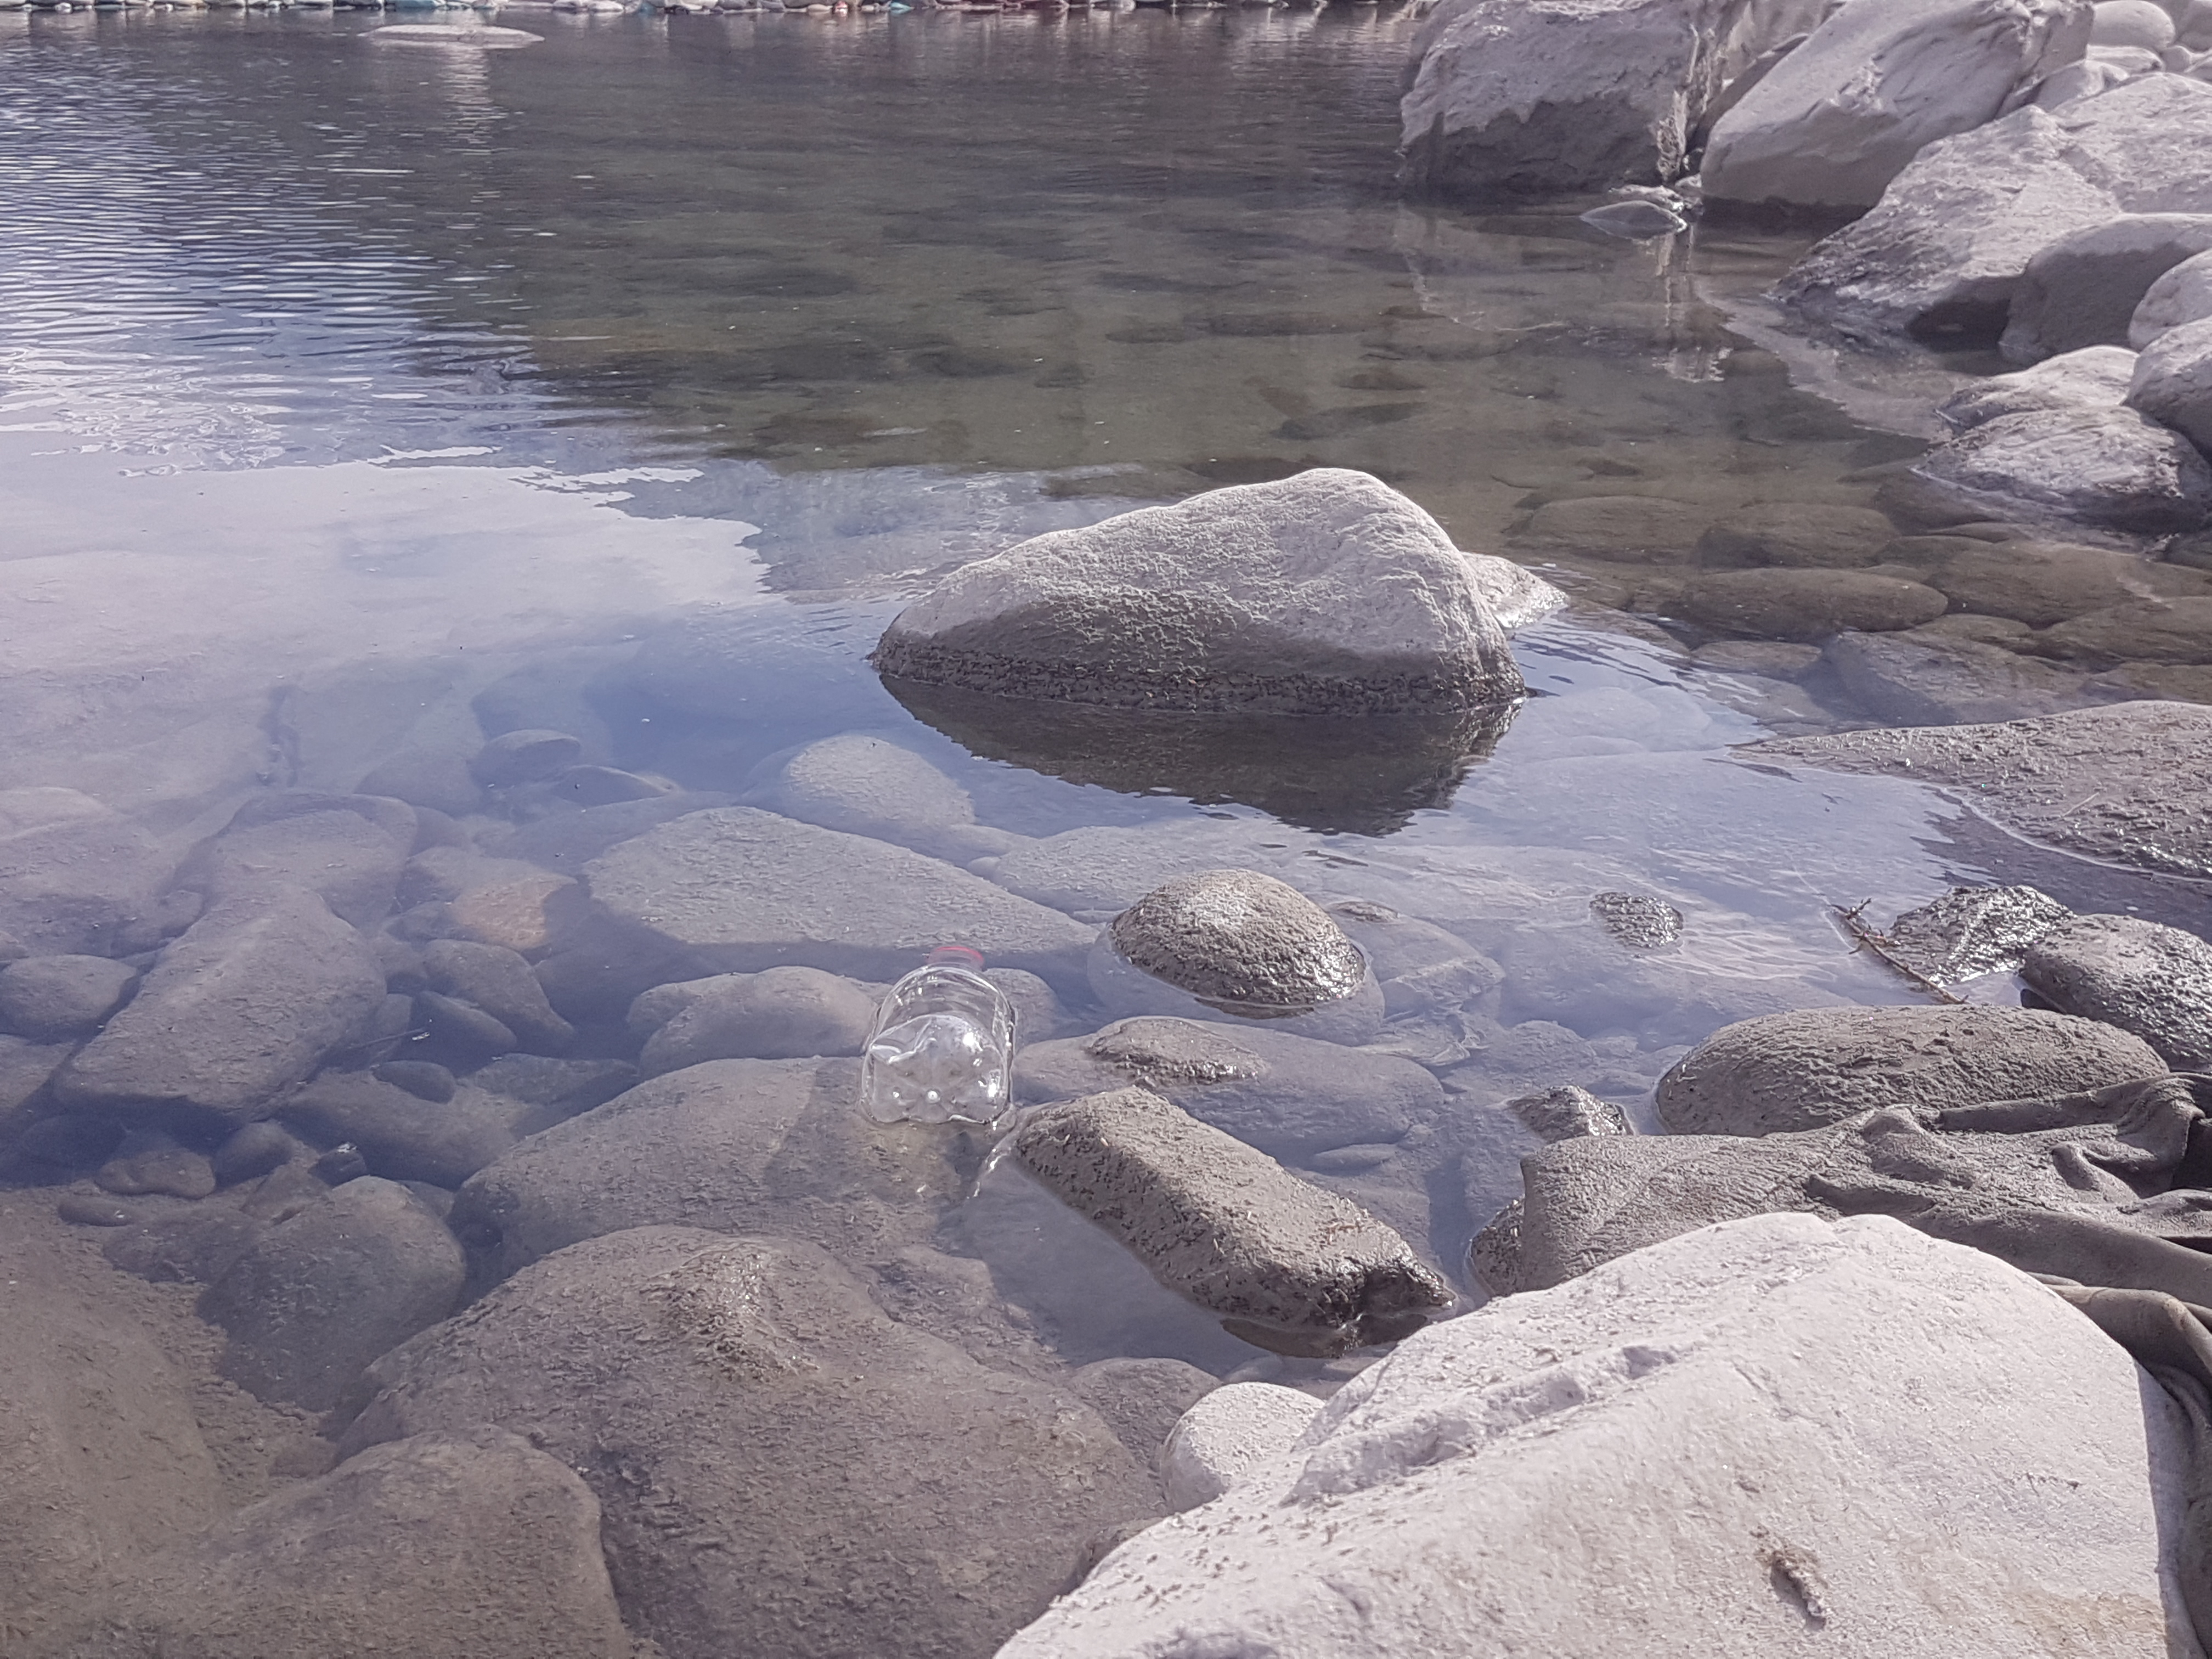Plastic Bottle: (857, 943, 1017, 1129), (1608, 183, 1684, 211)
